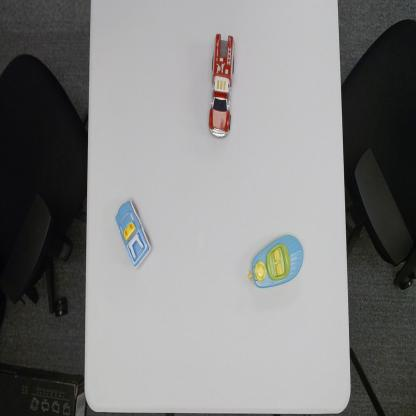Boat: (247, 232, 305, 290)
Car: (114, 197, 153, 269)
Firetruck: (208, 31, 238, 141)
